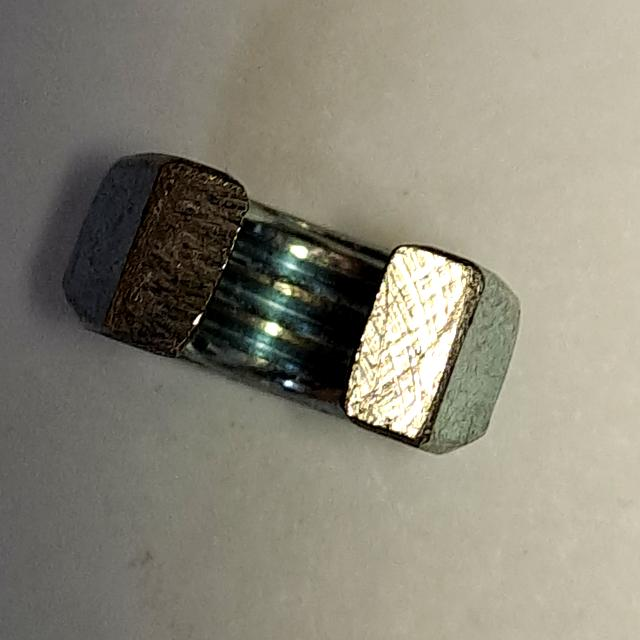Side-Fracture: (49, 136, 538, 475)
